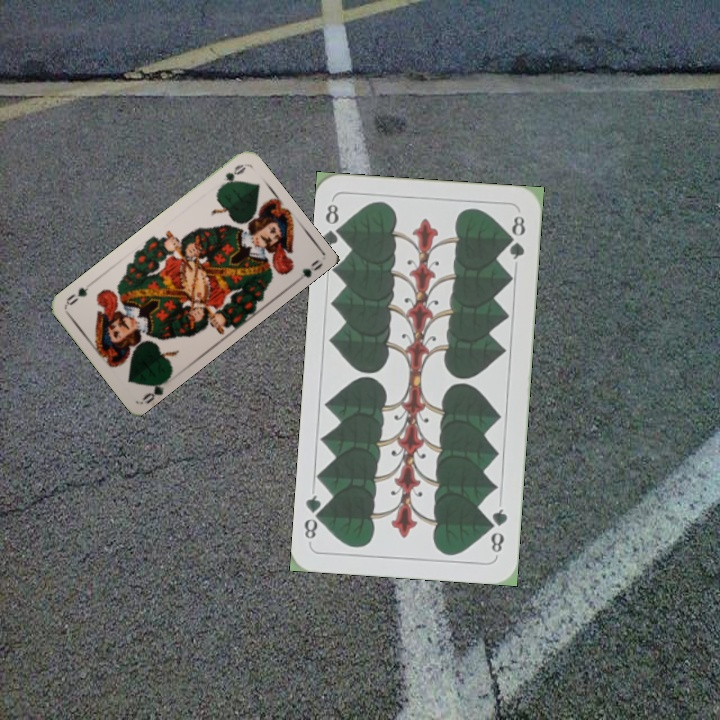G8: (319, 200, 347, 250), (485, 504, 510, 558)
GO: (139, 373, 173, 405), (214, 160, 248, 192)
